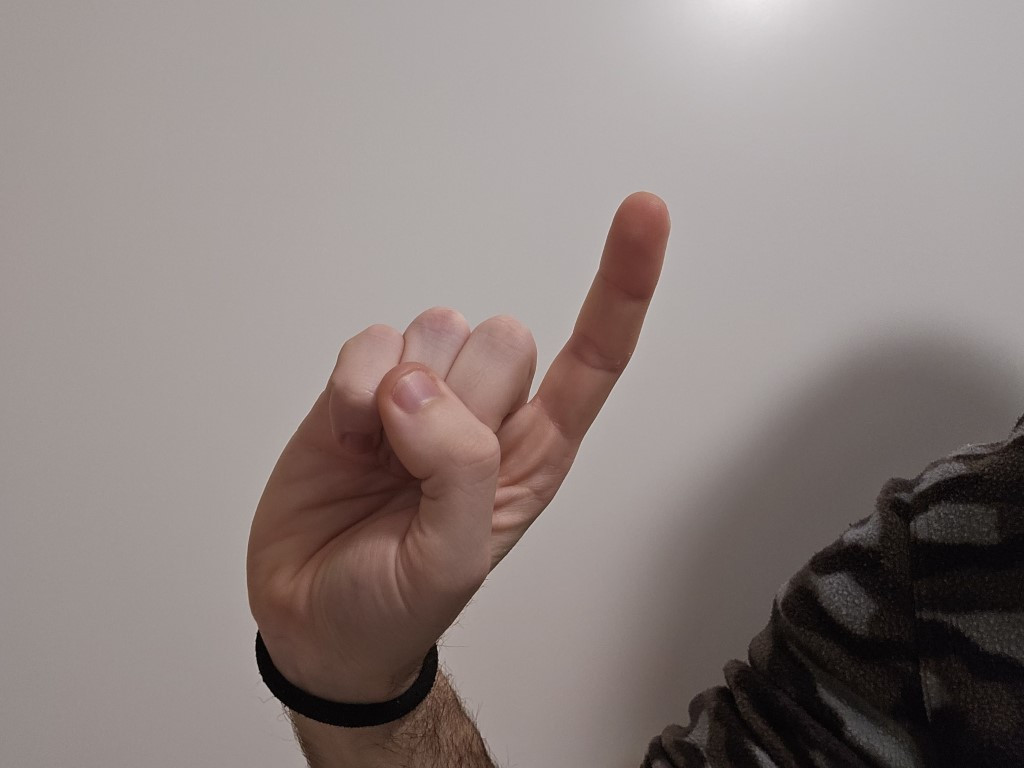z: (201, 174, 687, 673)
